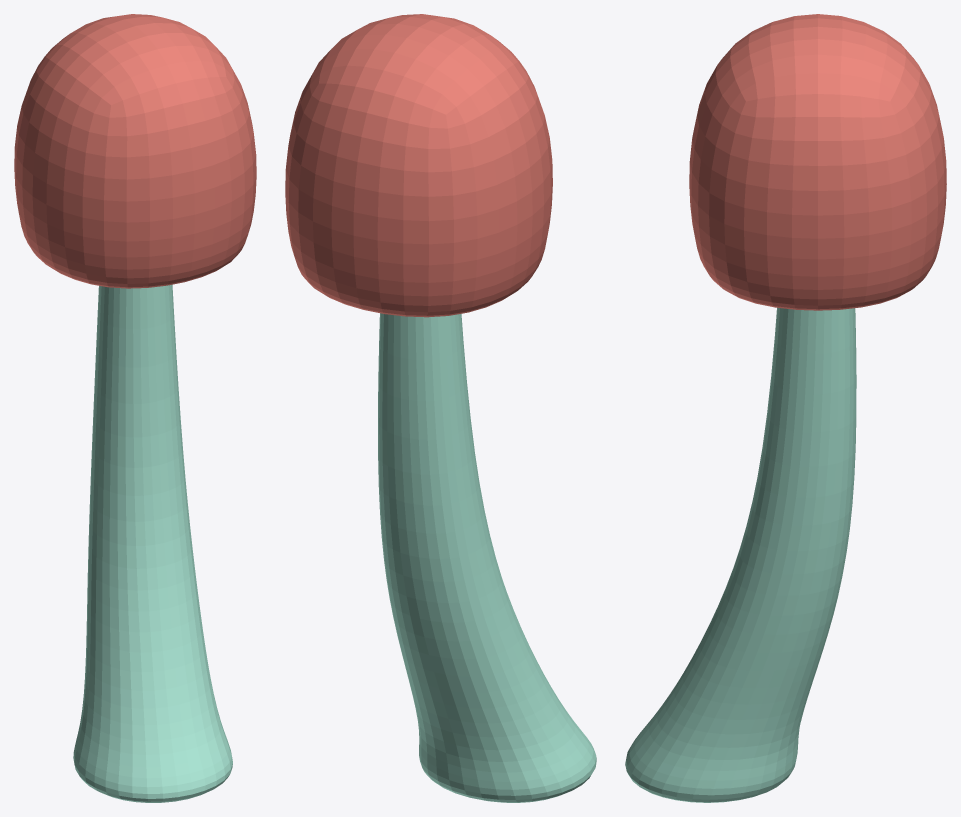
Rendered from small_Shroom.fbx.
3 views of the same model, side by side, from view 1: azimuth 30°, elevation 25°; view 2: azimuth 150°, elevation 25°; view 3: azimuth 270°, elevation 25° (orthographic). The views are drawn at different scales.
Visible parts, largest first — view 1: Cube.009; view 2: Cube.009; view 3: Cube.009.
Boxes of the visible parts, x1,y1,x2,y2 form: Cube.009: (14, 14, 256, 802); Cube.009: (285, 14, 596, 802); Cube.009: (625, 14, 946, 802).
Size of the model in its own units: 179 by 588 by 223.
